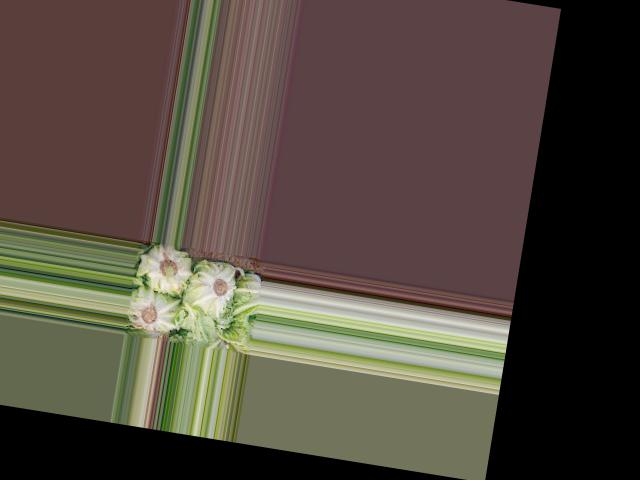lettuce: (125, 285, 182, 336)
